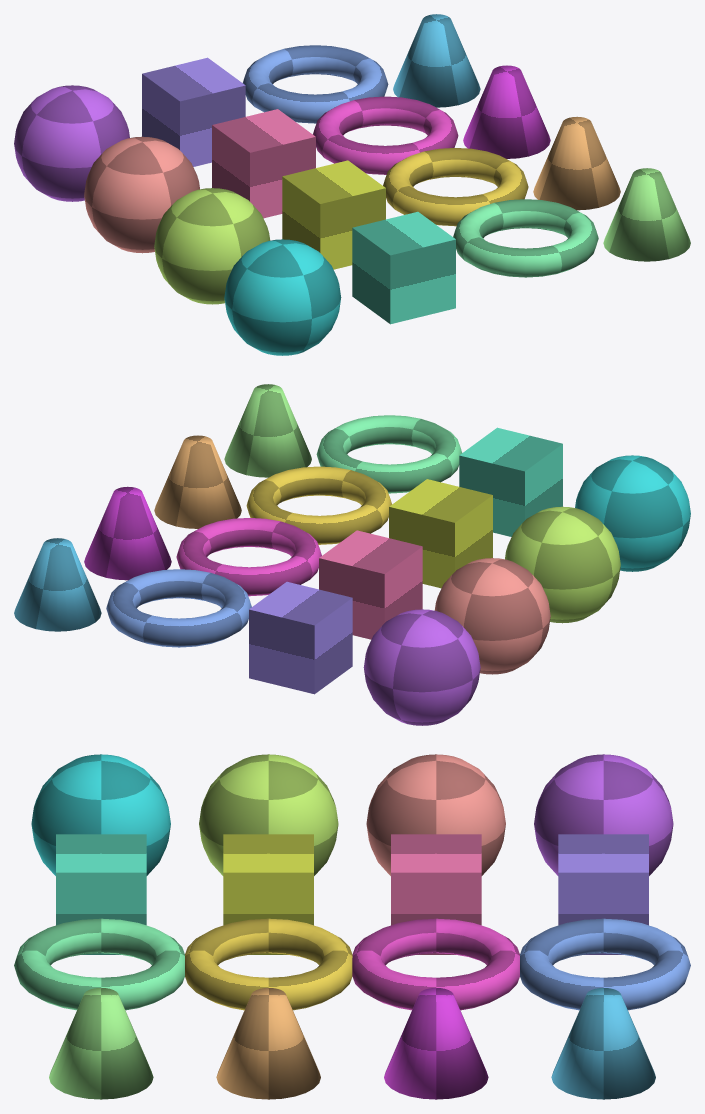
File: ResourceTableGallery.gltf
The picture shows the model from 3 angles, top to bottom: view 1: azimuth 30°, elevation 25°; view 2: azimuth 150°, elevation 25°; view 3: azimuth 270°, elevation 25°; orthographic projection. The views are drawn at different scales.
Visible parts, largest first — view 1: GalleryObject_00, GalleryObject_01, GalleryObject_12, GalleryObject_04, GalleryObject_08, GalleryObject_02, GalleryObject_09, GalleryObject_05, GalleryObject_13, GalleryObject_06, GalleryObject_14, GalleryObject_10 (+4 smaller); view 2: GalleryObject_12, GalleryObject_13, GalleryObject_00, GalleryObject_08, GalleryObject_04, GalleryObject_14, GalleryObject_05, GalleryObject_09, GalleryObject_01, GalleryObject_10, GalleryObject_02, GalleryObject_06 (+4 smaller); view 3: GalleryObject_00, GalleryObject_04, GalleryObject_08, GalleryObject_12, GalleryObject_02, GalleryObject_14, GalleryObject_06, GalleryObject_10, GalleryObject_01, GalleryObject_05, GalleryObject_09, GalleryObject_13 (+4 smaller).
Boxes of the visible parts, bbox=[...] form: GalleryObject_00: bbox=[224, 239, 341, 355]; GalleryObject_01: bbox=[352, 211, 455, 324]; GalleryObject_12: bbox=[14, 85, 129, 201]; GalleryObject_04: bbox=[154, 188, 270, 304]; GalleryObject_08: bbox=[84, 136, 199, 253]; GalleryObject_02: bbox=[453, 199, 598, 277]; GalleryObject_09: bbox=[212, 109, 315, 218]; GalleryObject_05: bbox=[282, 160, 385, 269]; GalleryObject_13: bbox=[142, 57, 245, 166]; GalleryObject_06: bbox=[383, 148, 528, 226]; GalleryObject_14: bbox=[243, 45, 388, 123]; GalleryObject_10: bbox=[313, 96, 458, 174]; GalleryObject_12: bbox=[363, 609, 480, 725]; GalleryObject_13: bbox=[249, 581, 352, 694]; GalleryObject_00: bbox=[575, 455, 690, 571]; GalleryObject_08: bbox=[434, 558, 550, 674]; GalleryObject_04: bbox=[505, 506, 620, 623]; GalleryObject_14: bbox=[106, 569, 251, 647]; GalleryObject_05: bbox=[389, 479, 492, 588]; GalleryObject_09: bbox=[319, 530, 422, 639]; GalleryObject_01: bbox=[459, 427, 562, 536]; GalleryObject_10: bbox=[176, 518, 321, 596]; GalleryObject_02: bbox=[316, 415, 461, 493]; GalleryObject_06: bbox=[246, 466, 391, 544]; GalleryObject_00: bbox=[31, 754, 170, 875]; GalleryObject_04: bbox=[199, 754, 338, 875]; GalleryObject_08: bbox=[366, 754, 505, 875]; GalleryObject_12: bbox=[534, 754, 673, 875]; GalleryObject_02: bbox=[14, 918, 184, 1010]; GalleryObject_14: bbox=[520, 918, 690, 1010]; GalleryObject_06: bbox=[185, 918, 352, 1010]; GalleryObject_10: bbox=[352, 918, 519, 1010]; GalleryObject_01: bbox=[56, 834, 146, 954]; GalleryObject_05: bbox=[223, 834, 313, 954]; GalleryObject_09: bbox=[391, 834, 481, 954]; GalleryObject_13: bbox=[558, 834, 648, 954].
Size of the model in its own units: 8.95 by 2 by 9.7.
Materials: 16 (16 with a texture image).
